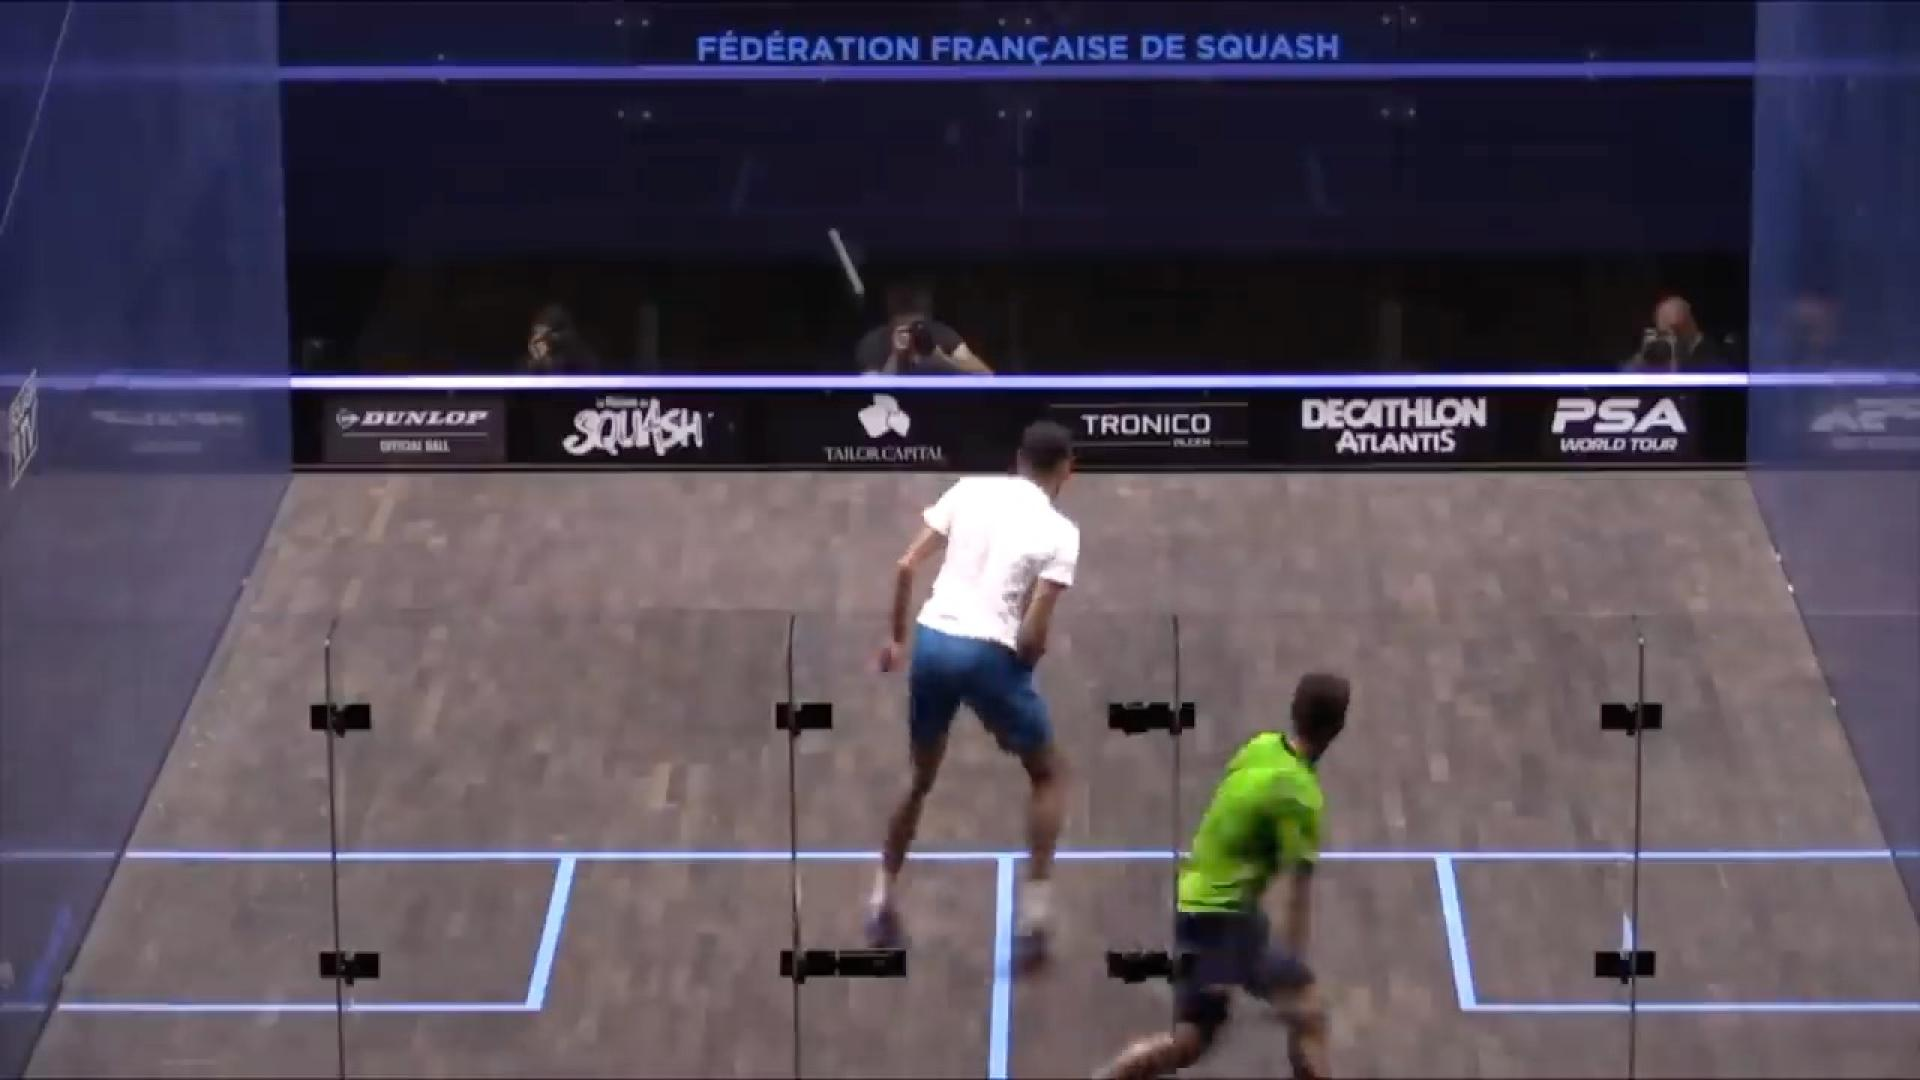Squash-Ball: (818, 210, 870, 310)
